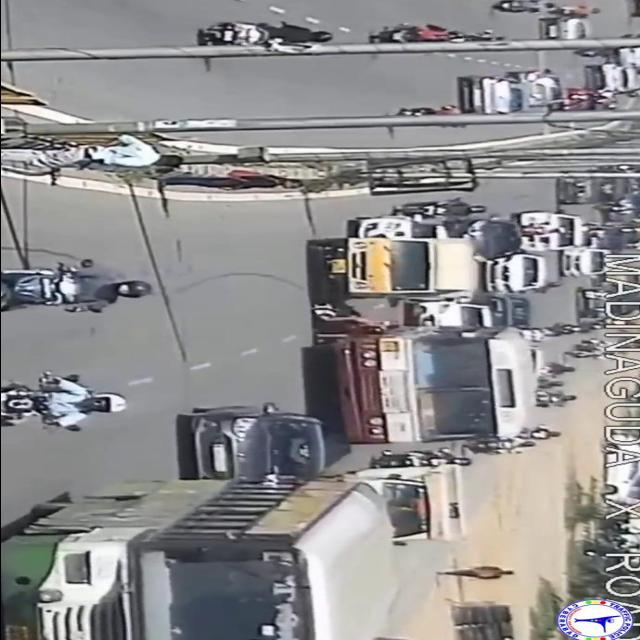accident: (302, 234, 554, 442)
non_accident: (0, 402, 476, 640), (476, 165, 640, 294), (444, 52, 640, 114)
